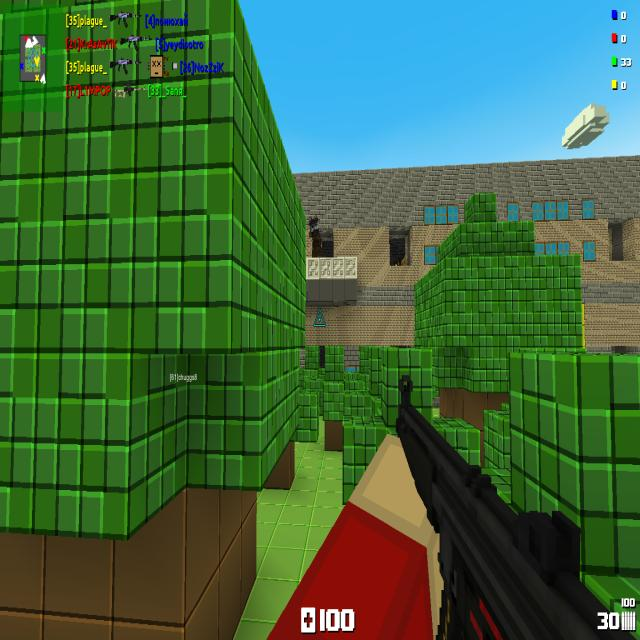enemy: (309, 215, 322, 258), (393, 257, 400, 266)
